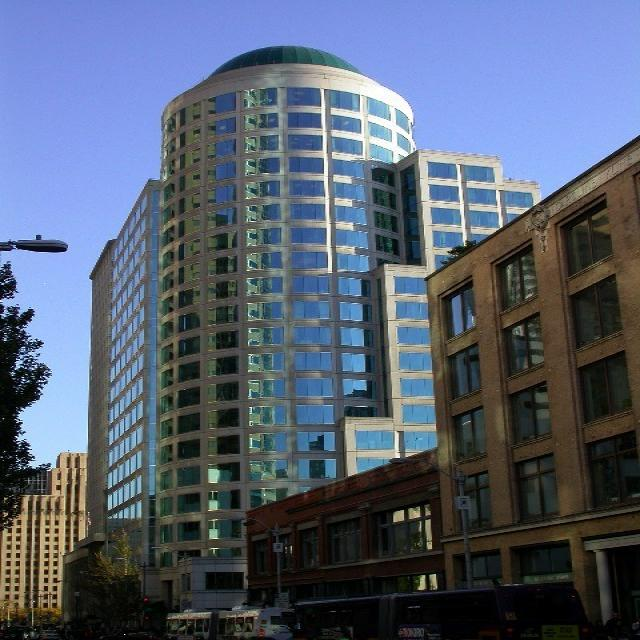building: (93, 44, 542, 612), (423, 134, 640, 640), (245, 448, 446, 640), (0, 451, 87, 627)
